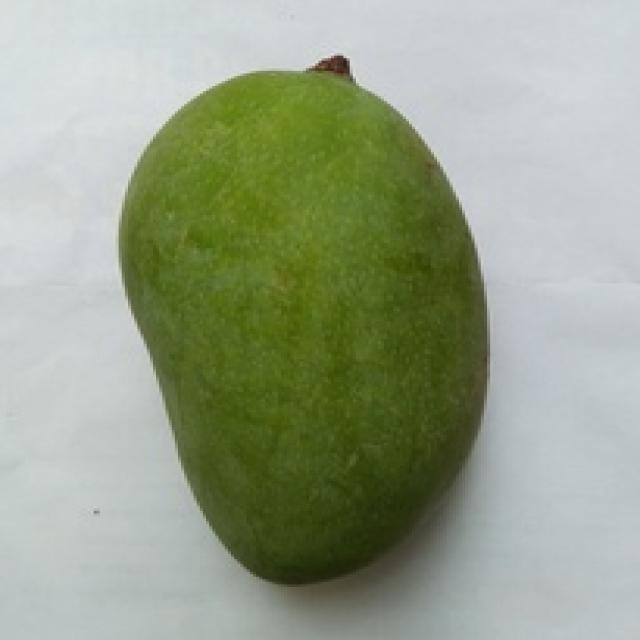Mango: (122, 71, 481, 579)
